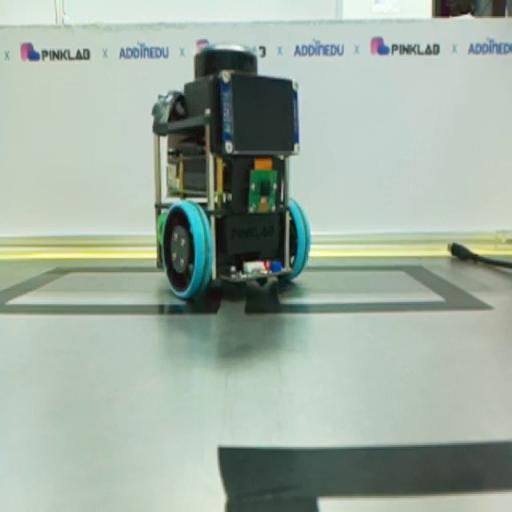pinky_63: (152, 44, 311, 300)
